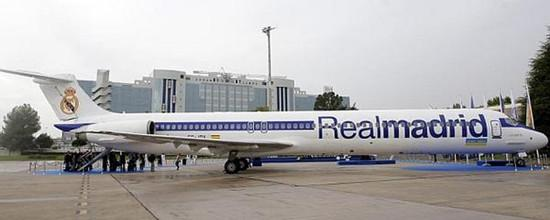airplane: (14, 59, 550, 176)
